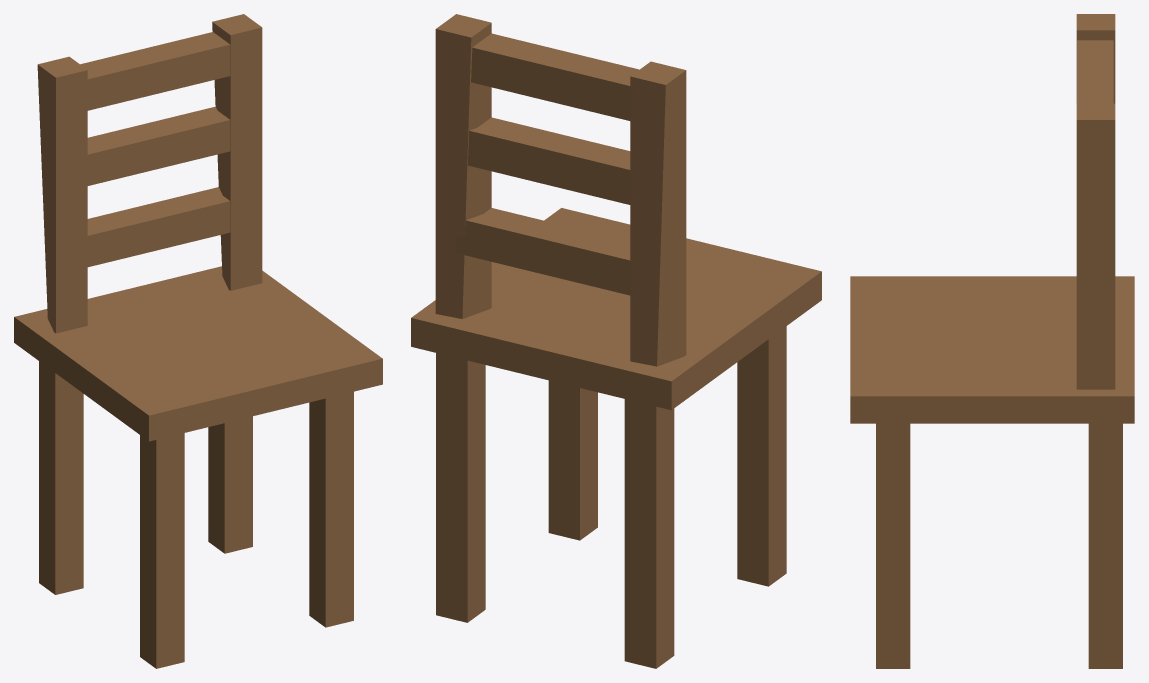
File: Chair 2.fbx
3 views of the same model, side by side, from view 1: azimuth 30°, elevation 25°; view 2: azimuth 150°, elevation 25°; view 3: azimuth 270°, elevation 25° (orthographic). The views are drawn at different scales.
Visible parts, largest first — view 1: стул; view 2: стул; view 3: стул.
Boxes of the visible parts, box(x1,y1,x2,y2) form: стул: box(14, 14, 382, 668); стул: box(411, 14, 821, 668); стул: box(850, 14, 1134, 668).
Bounding box in the file's own units: 111 × 237 × 111.
